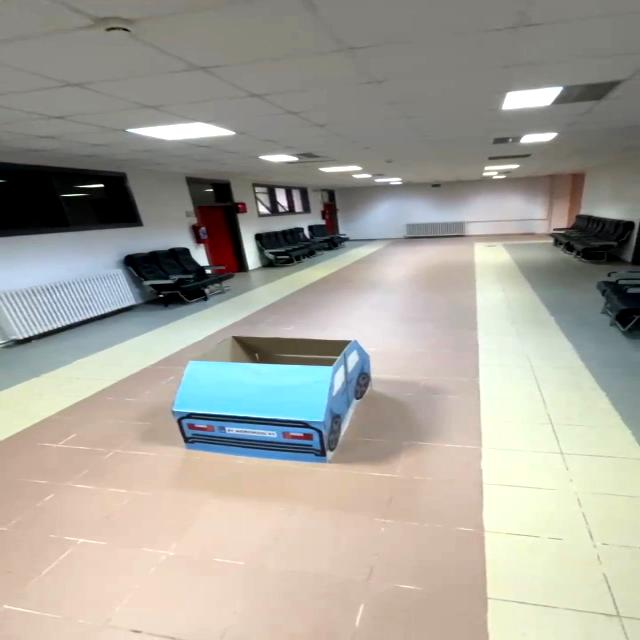blue_car: (139, 320, 404, 495)
